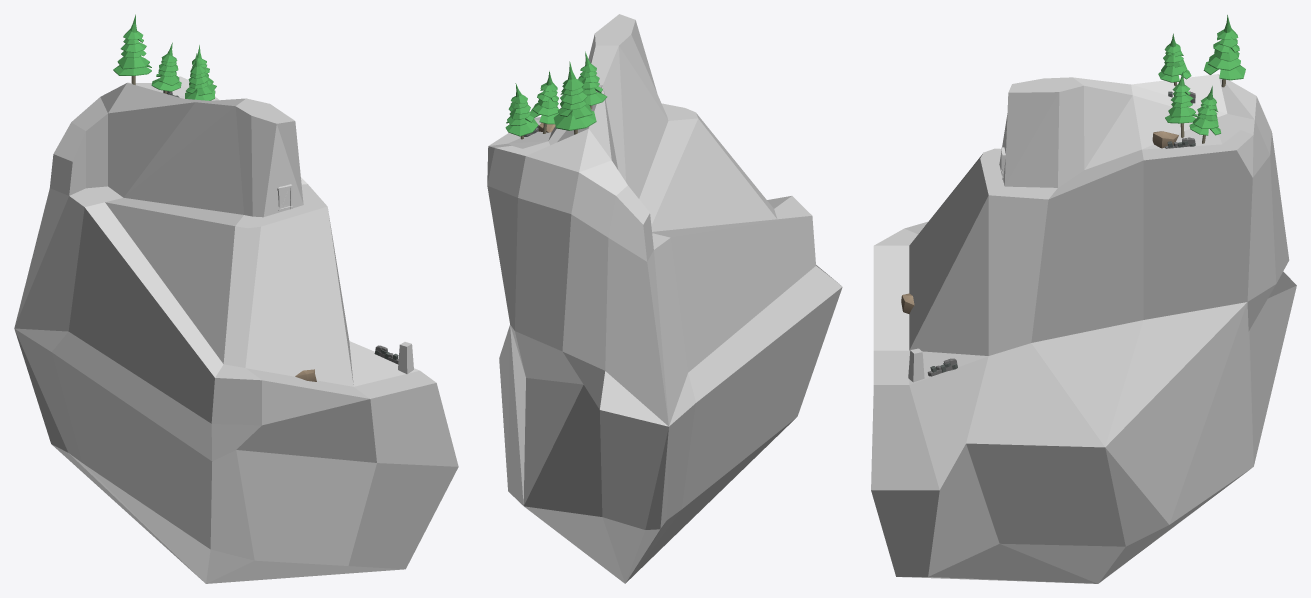
File: SM_Island Mountain.fbx
3 renders of one model, left to right at view 1: azimuth 30°, elevation 25°; view 2: azimuth 150°, elevation 25°; view 3: azimuth 270°, elevation 25°, orthographic. The views are drawn at different scales.
Parts seen in each view (by area): view 1: Mountain.001, Pine.006, Pine.003, Pine.002; view 2: Mountain.001, Pine.006, Pine.001, Pine.002, Pine.003; view 3: Mountain.001, Pine.006, Pine.002, Pine.001, Pine.003.
Boxes of the visible parts, <box> form: Mountain.001: <box>14,76,458,583</box>; Pine.006: <box>113,14,151,84</box>; Pine.003: <box>151,42,181,93</box>; Pine.002: <box>185,53,215,100</box>; Mountain.001: <box>487,14,842,583</box>; Pine.006: <box>553,61,596,134</box>; Pine.001: <box>505,83,538,139</box>; Pine.002: <box>530,71,558,133</box>; Pine.003: <box>578,51,607,109</box>; Mountain.001: <box>871,74,1296,583</box>; Pine.006: <box>1203,15,1245,87</box>; Pine.002: <box>1165,71,1198,137</box>; Pine.001: <box>1189,86,1220,143</box>; Pine.003: <box>1158,33,1191,86</box>.
Size of the model in its own units: 2514 by 4832 by 3302.
